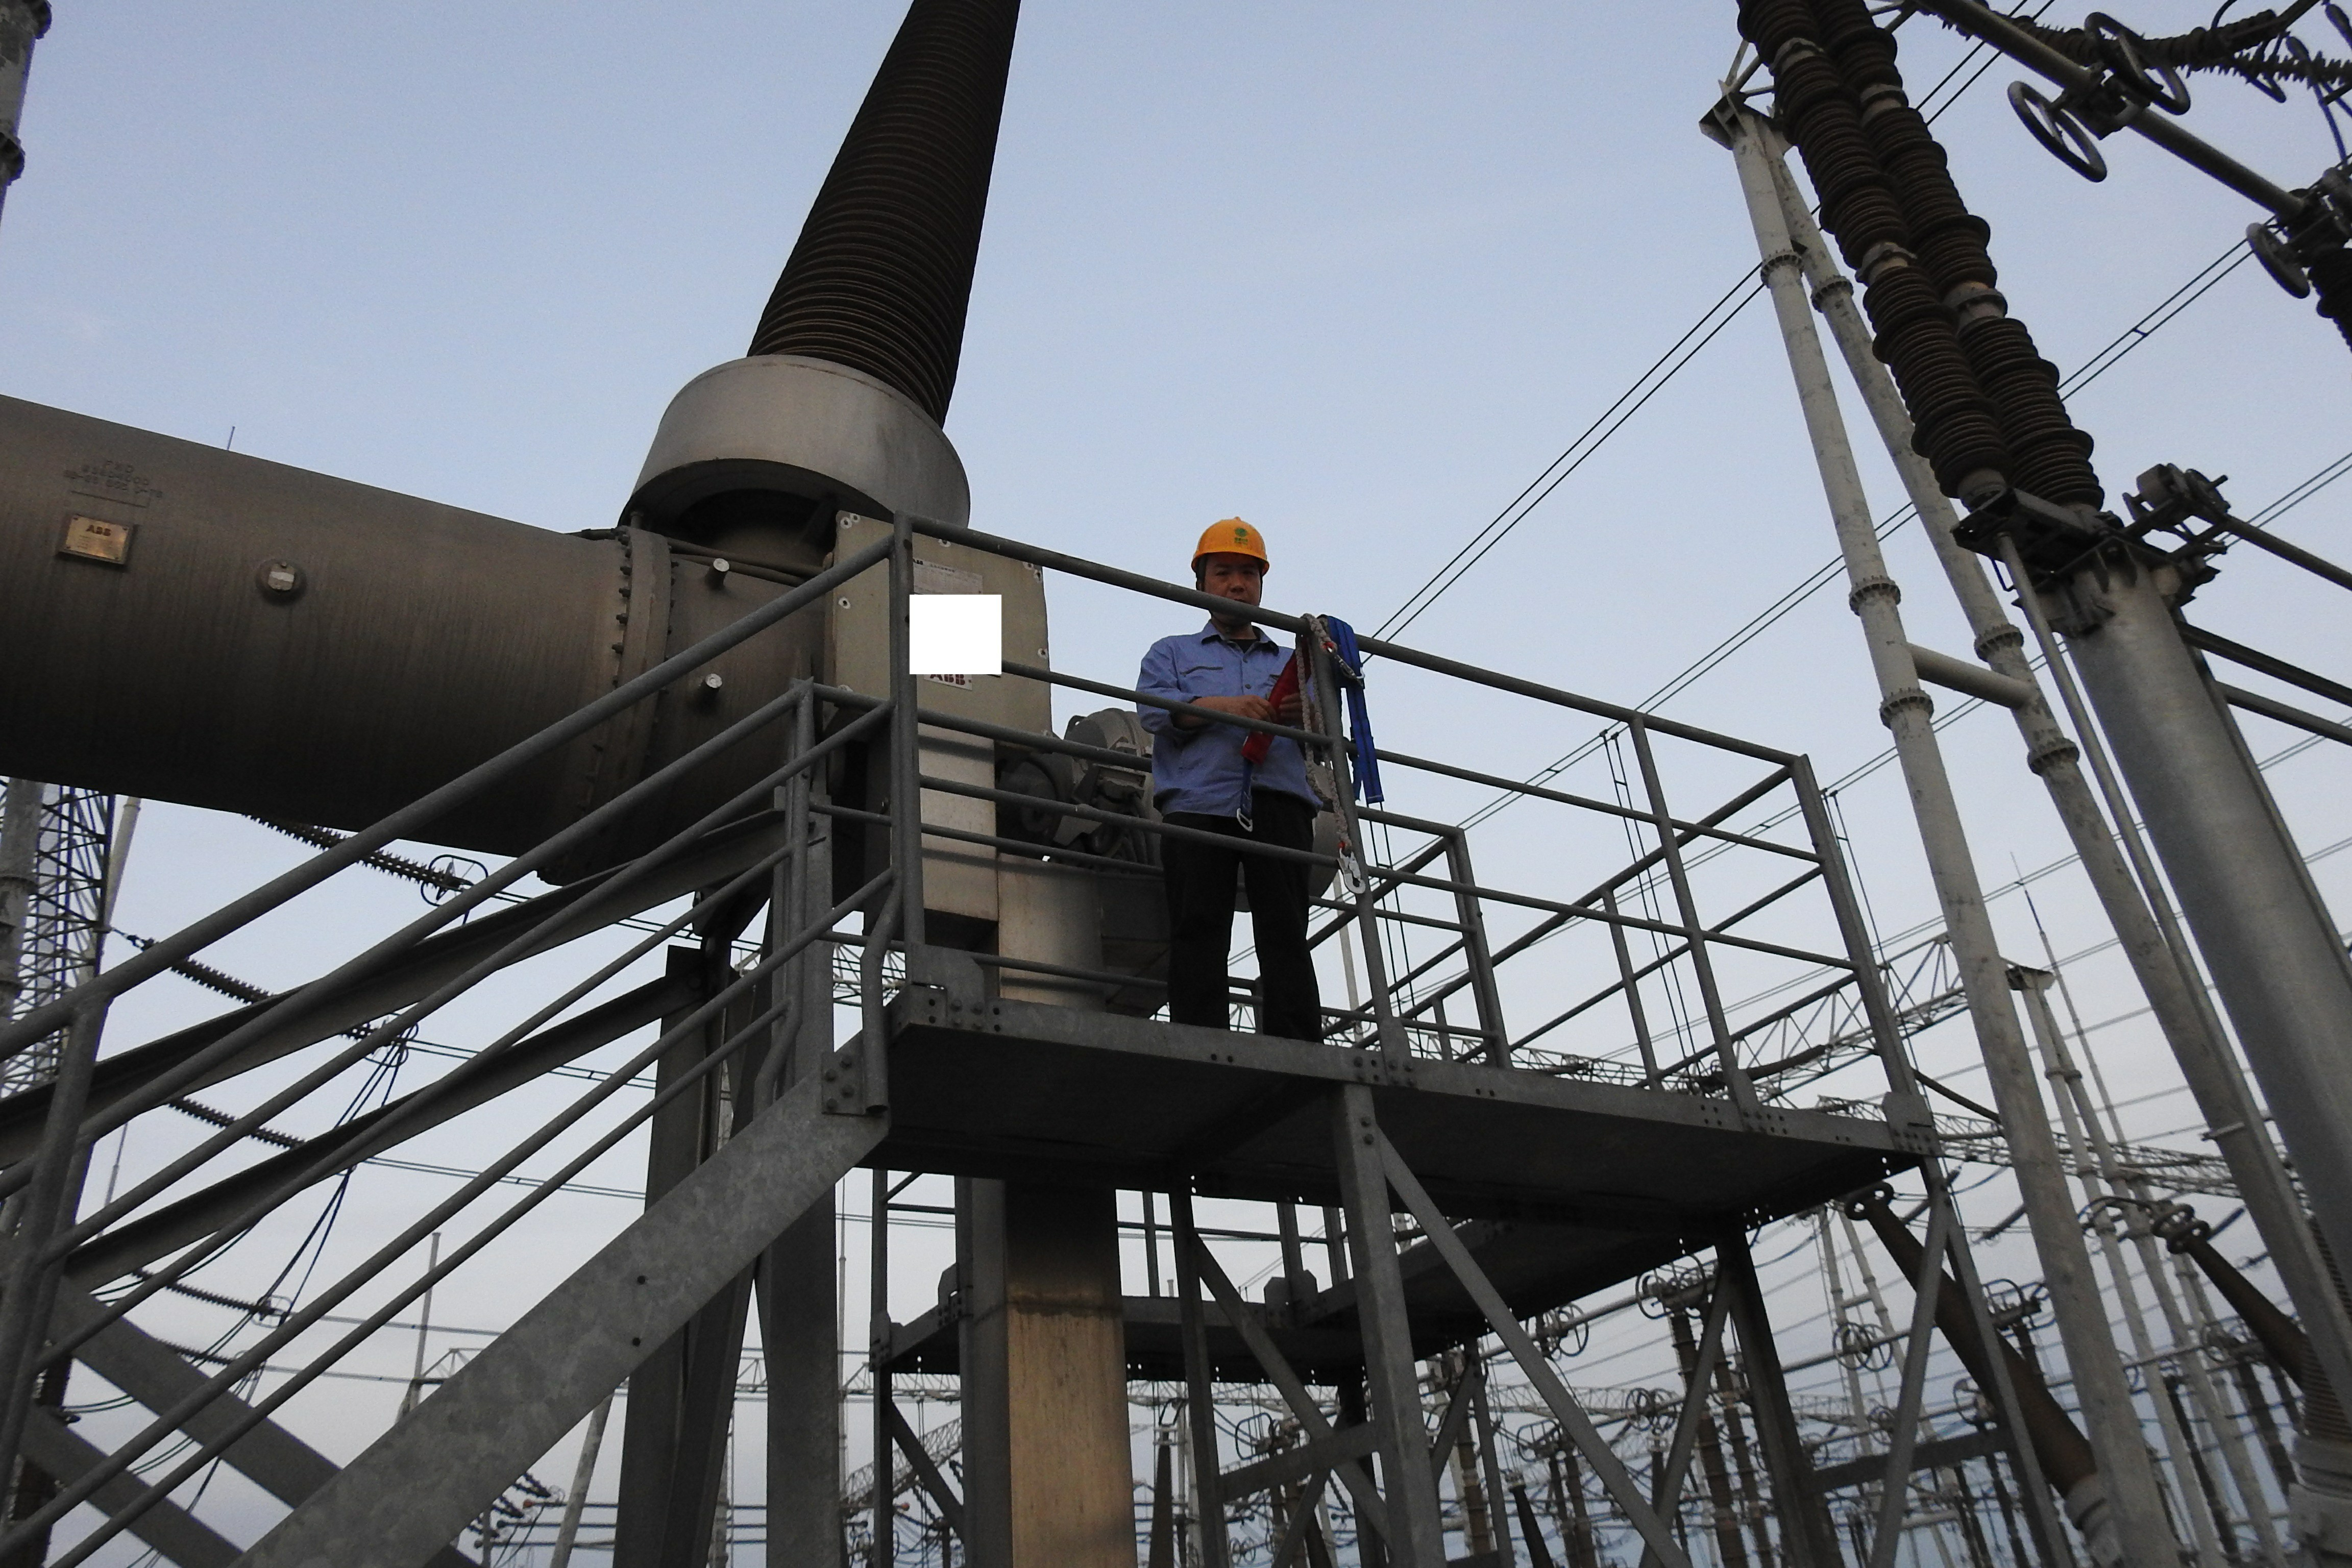hat: (1183, 506, 1276, 623)
